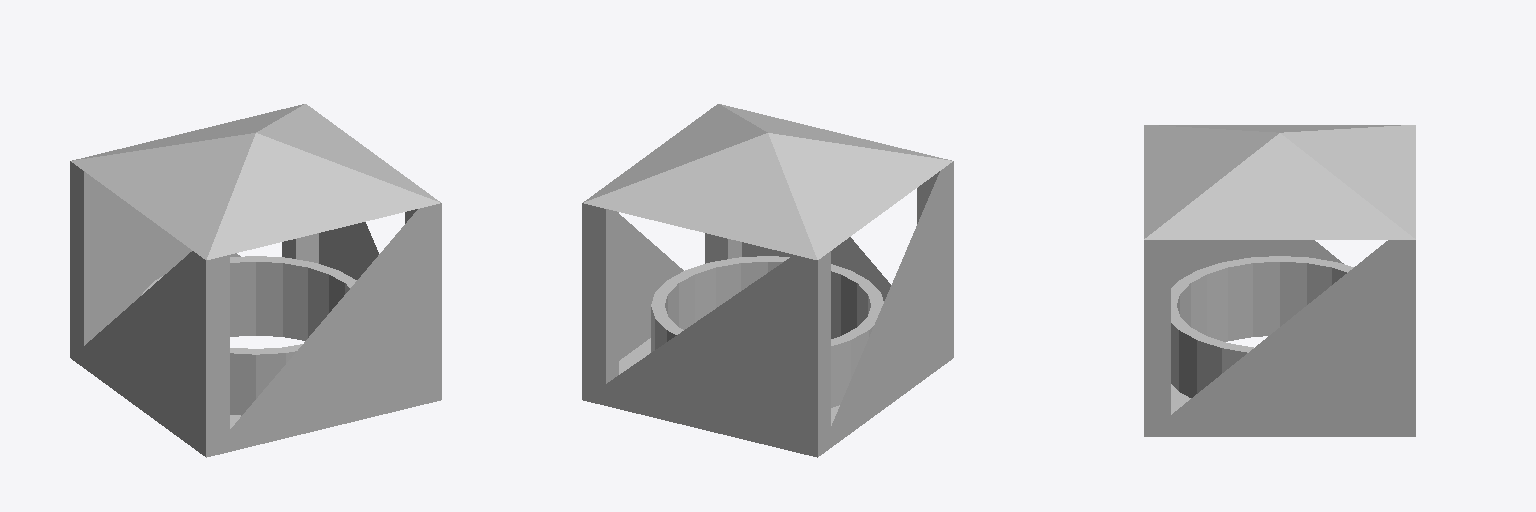
The model's file is well.obj.
3 views of the same model, side by side, from view 1: azimuth 30°, elevation 25°; view 2: azimuth 150°, elevation 25°; view 3: azimuth 270°, elevation 25° (orthographic).
Visible parts, largest first — view 1: Mesh1 Model; view 2: Mesh1 Model; view 3: Mesh1 Model.
Boxes of the visible parts, box(x1,y1,x2,y2) form: Mesh1 Model: box(70, 104, 441, 457); Mesh1 Model: box(582, 104, 953, 457); Mesh1 Model: box(1144, 125, 1415, 436).
Size of the model in its own units: 2 by 2 by 2.